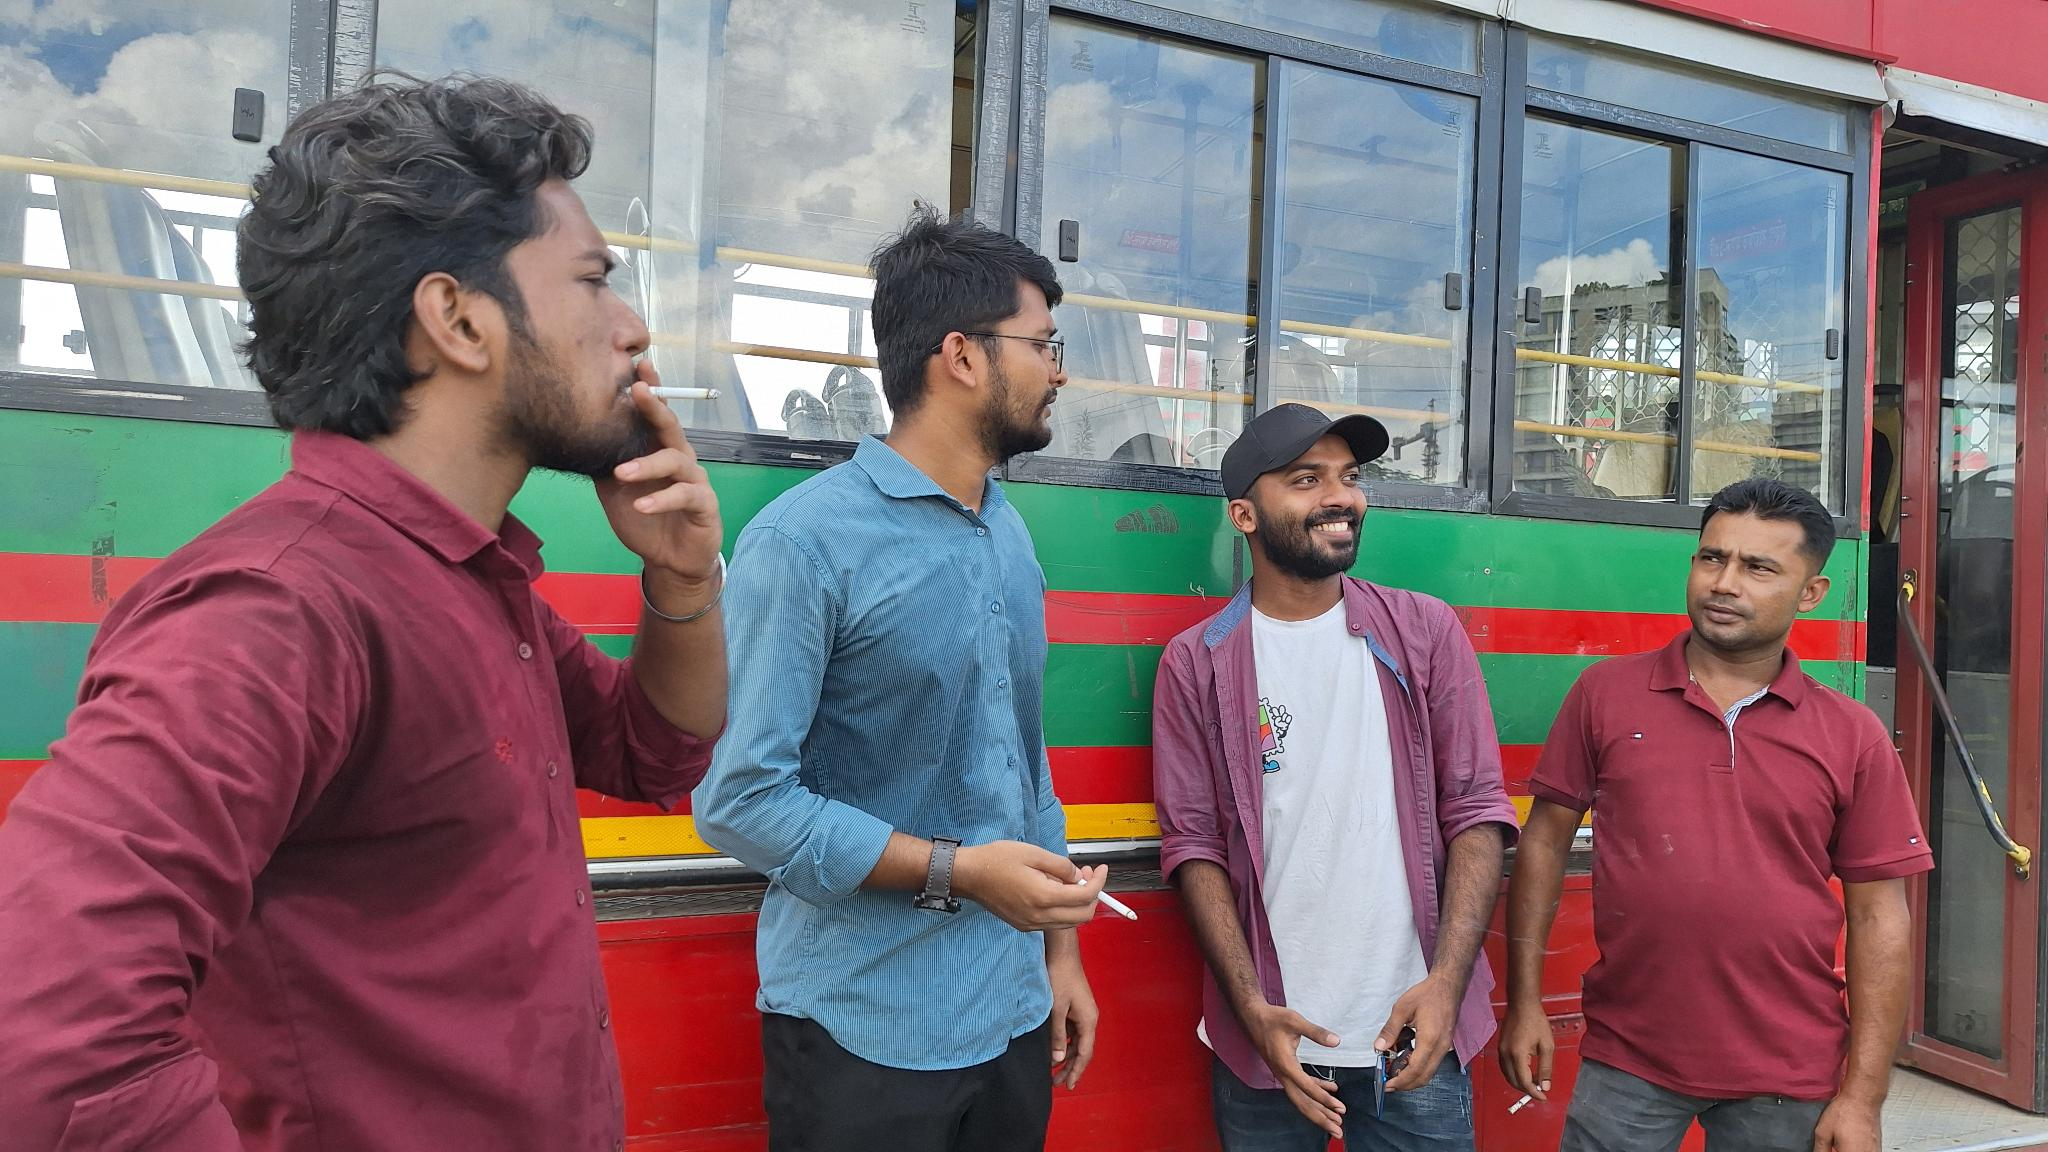cigarette: (1075, 878, 1139, 923), (617, 381, 724, 405), (1506, 1083, 1544, 1117)
nonSmoker: (1152, 402, 1521, 1152)
smoker: (0, 79, 730, 1152), (691, 224, 1110, 1152), (1498, 478, 1937, 1152)
